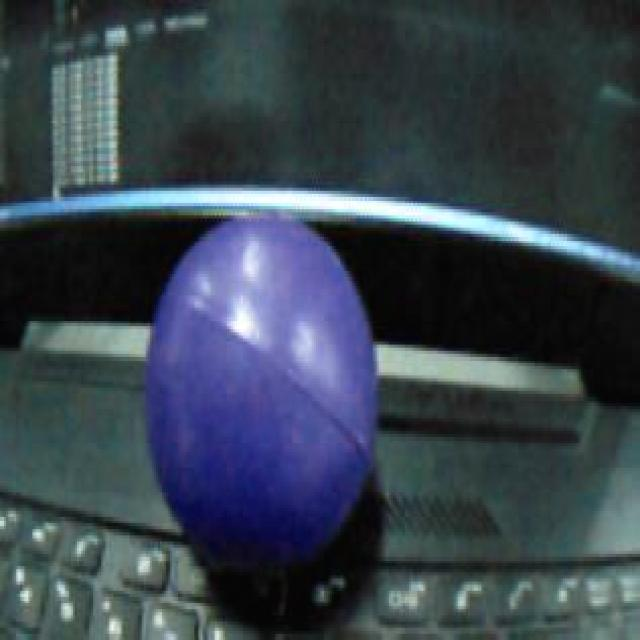BallPurple: (146, 214, 375, 559)
